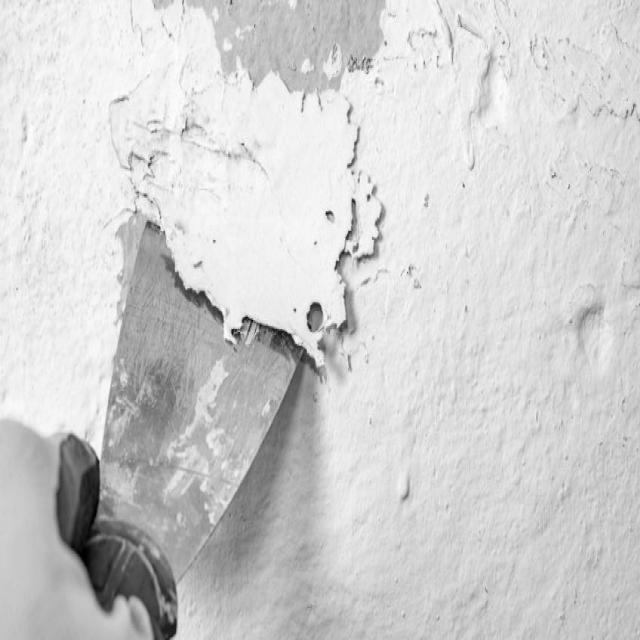peeling paint: (76, 0, 504, 518)
